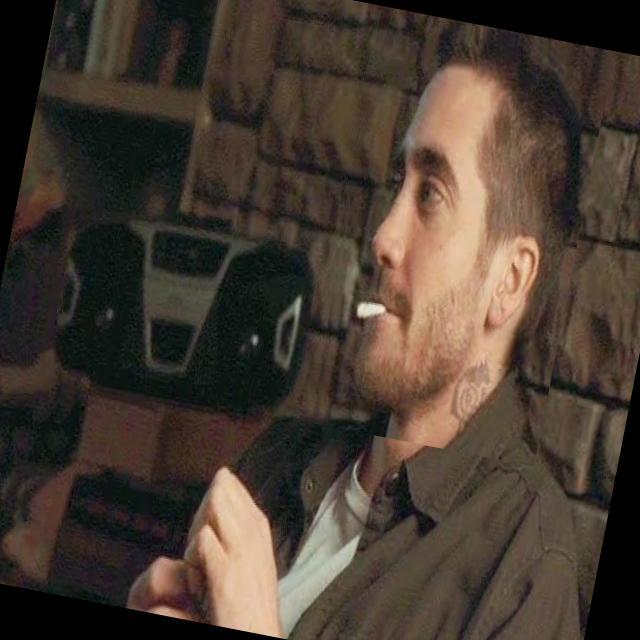cigarette: (340, 273, 390, 336)
